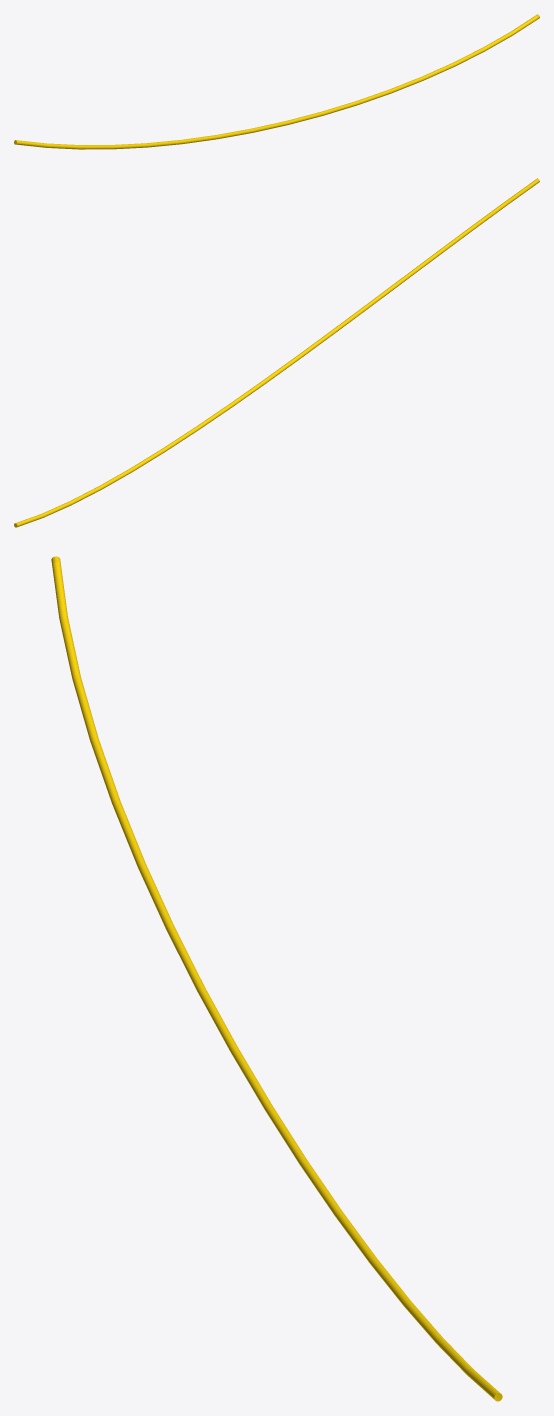
File: Event_421278790_track_18.fbx
3 views of the same model, one above another, from view 1: azimuth 30°, elevation 25°; view 2: azimuth 210°, elevation 25°; view 3: azimuth 270°, elevation 25° (orthographic). The views are drawn at different scales.
Visible parts, largest first — view 1: Model; view 2: Model; view 3: Model.
Boxes of the visible parts, x1=… form: Model: x1=14, y1=14, x2=539, y2=149; Model: x1=14, y1=178, x2=539, y2=527; Model: x1=51, y1=556, x2=502, y2=1401.
Size of the model in its own units: 6.58 by 1.18 by 2.02.
